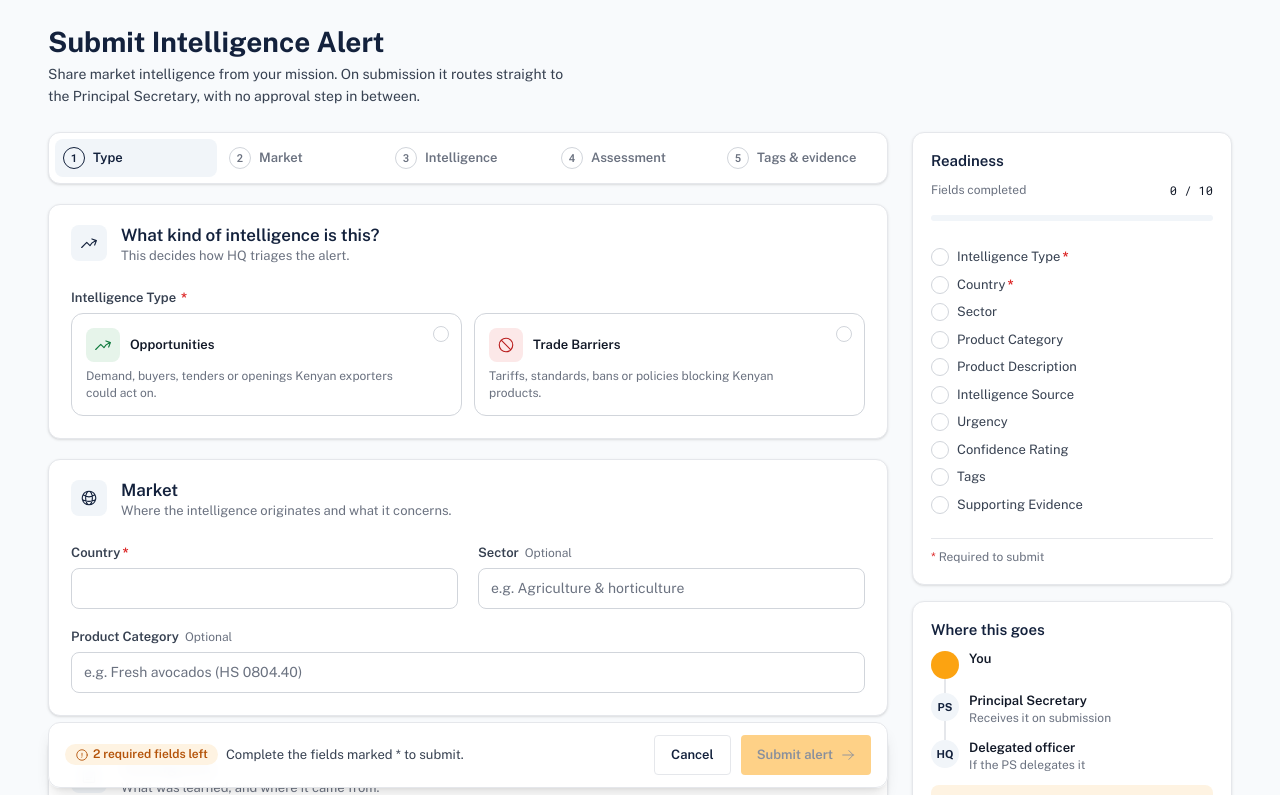
Test: AlertSubmitPage › TC-FR-ALERT-002-C: keeps submit disabled until both mandatory fields (Country, Intelligence Type) are set
Check: the button "Submit alert" is disabled, box left=741, top=735, right=871, bottom=775
Check: the text "2 required fields left" is shown, box left=65, top=745, right=218, bottom=765
Click the radio button labelled "Opportunities". click: (103, 345)
box: left=71, top=313, right=462, bottom=416
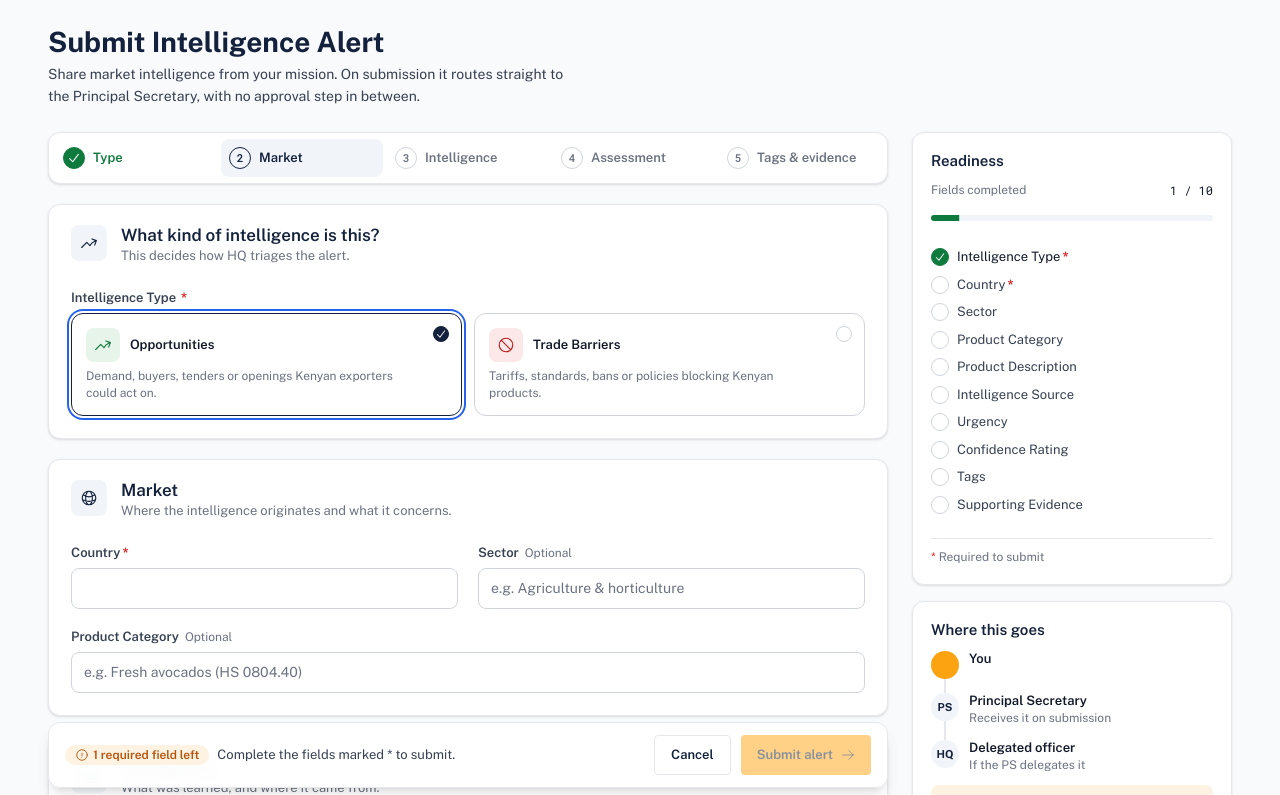
Check: the button "Submit alert" is disabled, box left=741, top=735, right=871, bottom=775
Check: the text "1 required field left" is shown, box left=65, top=745, right=209, bottom=765
Type "Kenya" into the field labelled "Country*". click: (264, 588)
box: left=71, top=568, right=458, bottom=609
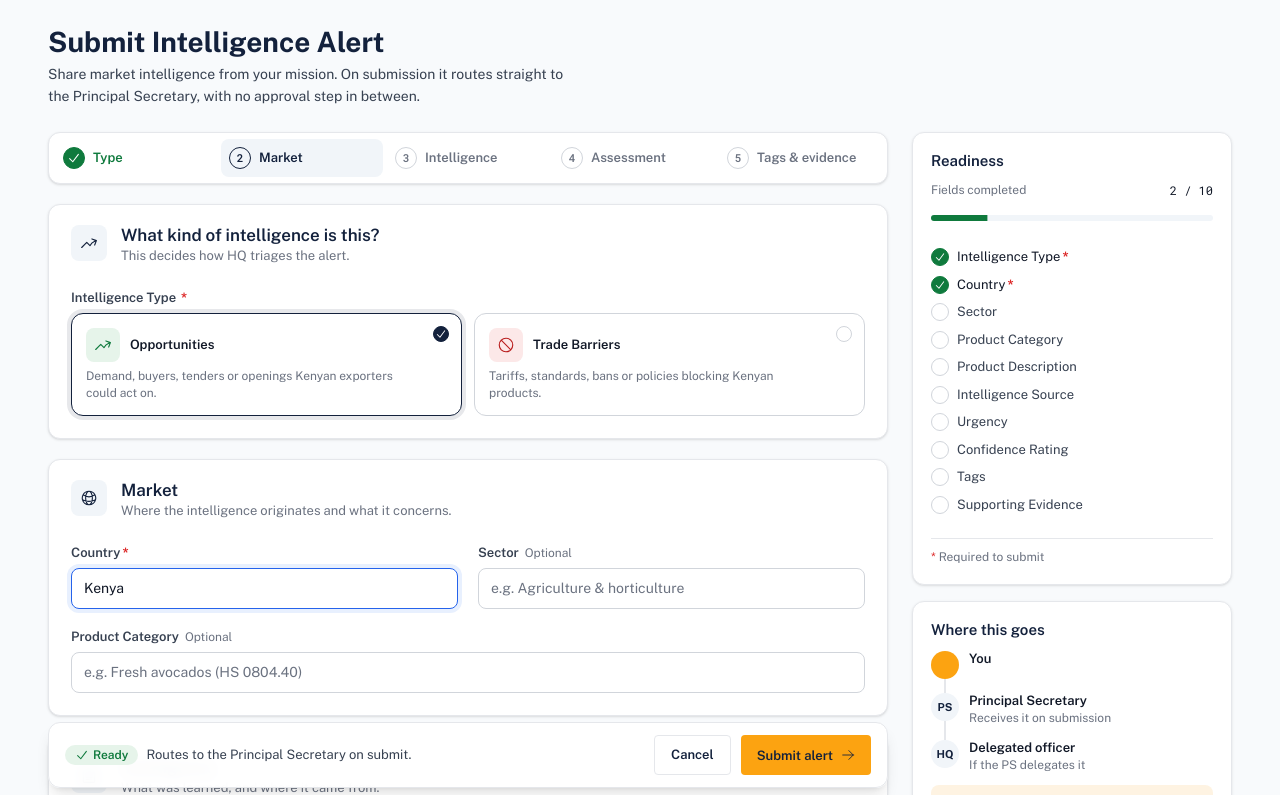
Check: the button "Submit alert" is enabled, box left=741, top=735, right=871, bottom=775
Check: the text "Ready" is shown, box left=65, top=745, right=138, bottom=765
